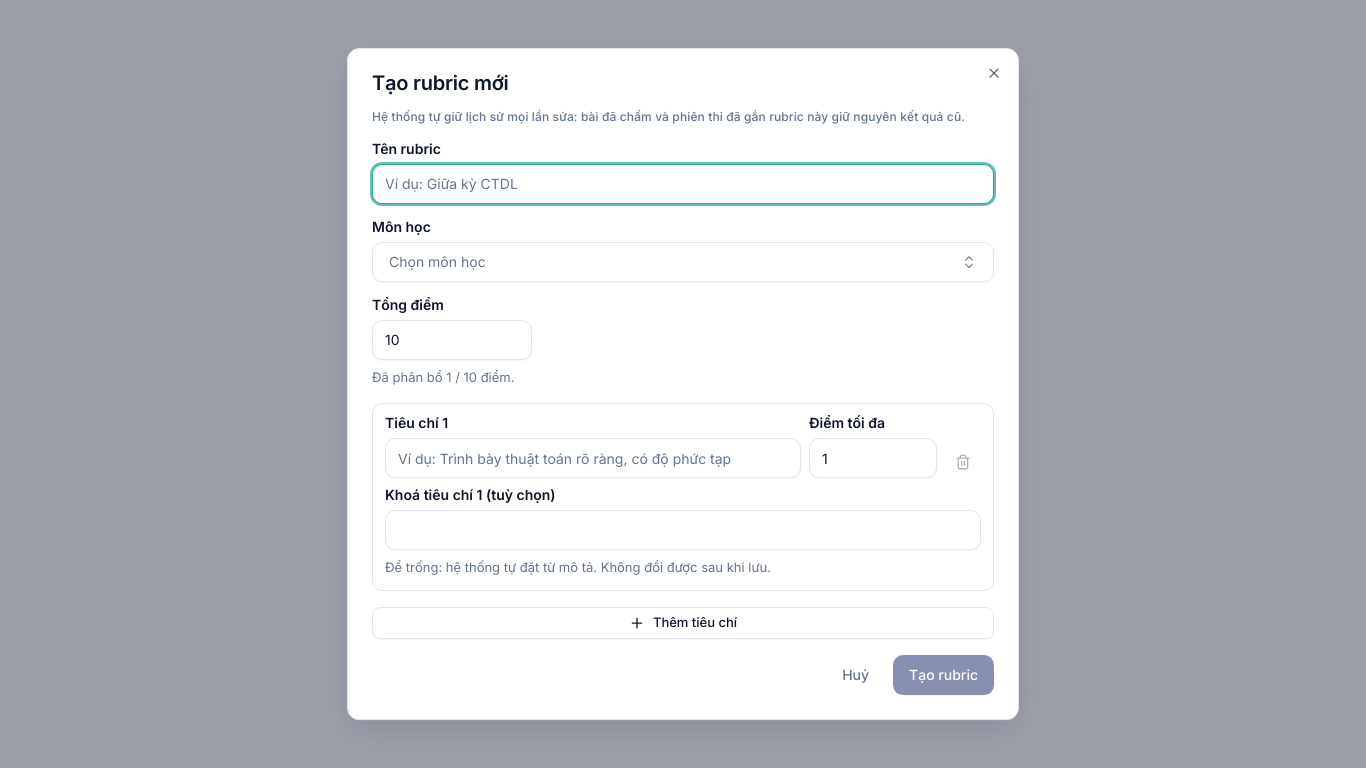
Test: RubricDialog — tạo rubric mới › chưa có rubric nào (tạo trống) › từ chối tên đã có: lưu cùng tên là âm thầm tạo bản kế tiếp và sinh lại mọi khoá
Step 1. Type "CTDL" into the field labelled "Tên rubric" → (683, 184), box [372,164,994,204]
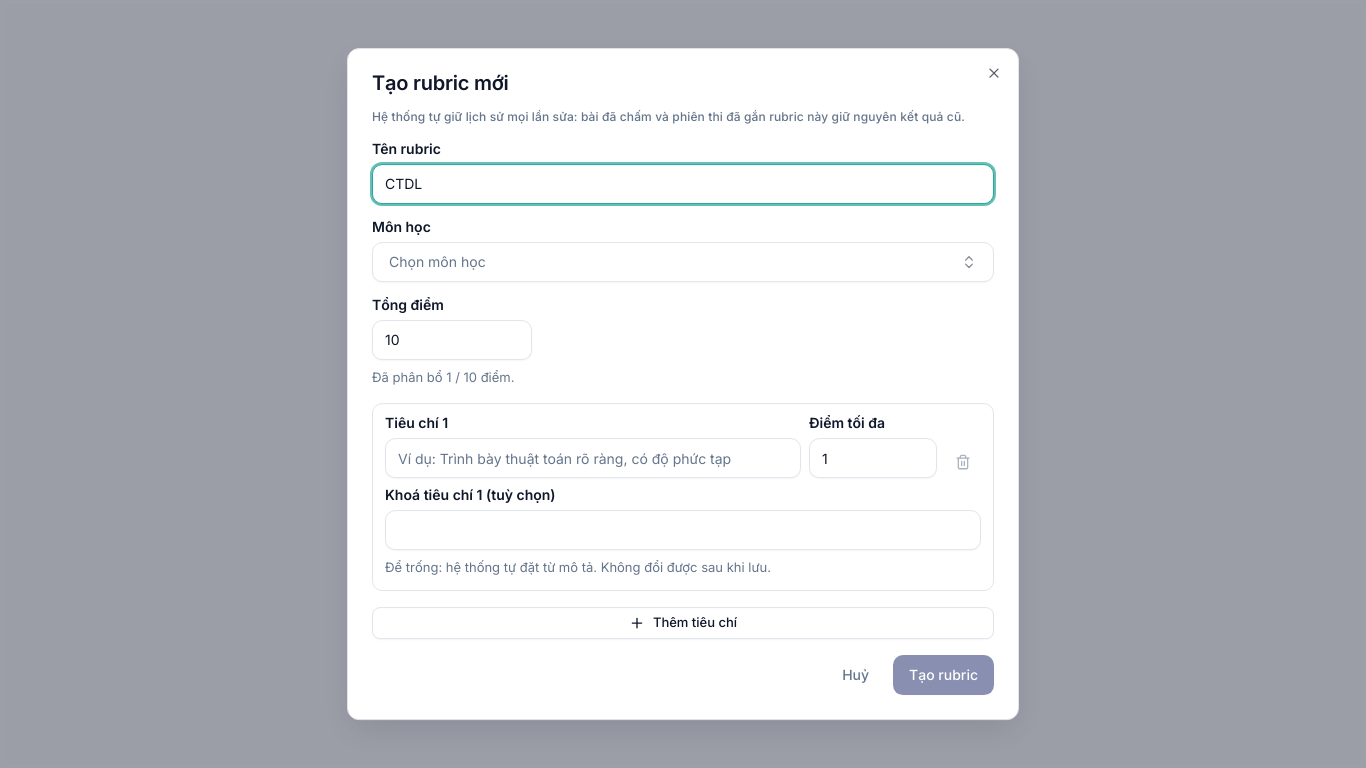
Step 2. Leave the field labelled "Tên rubric", box [372,164,994,204]
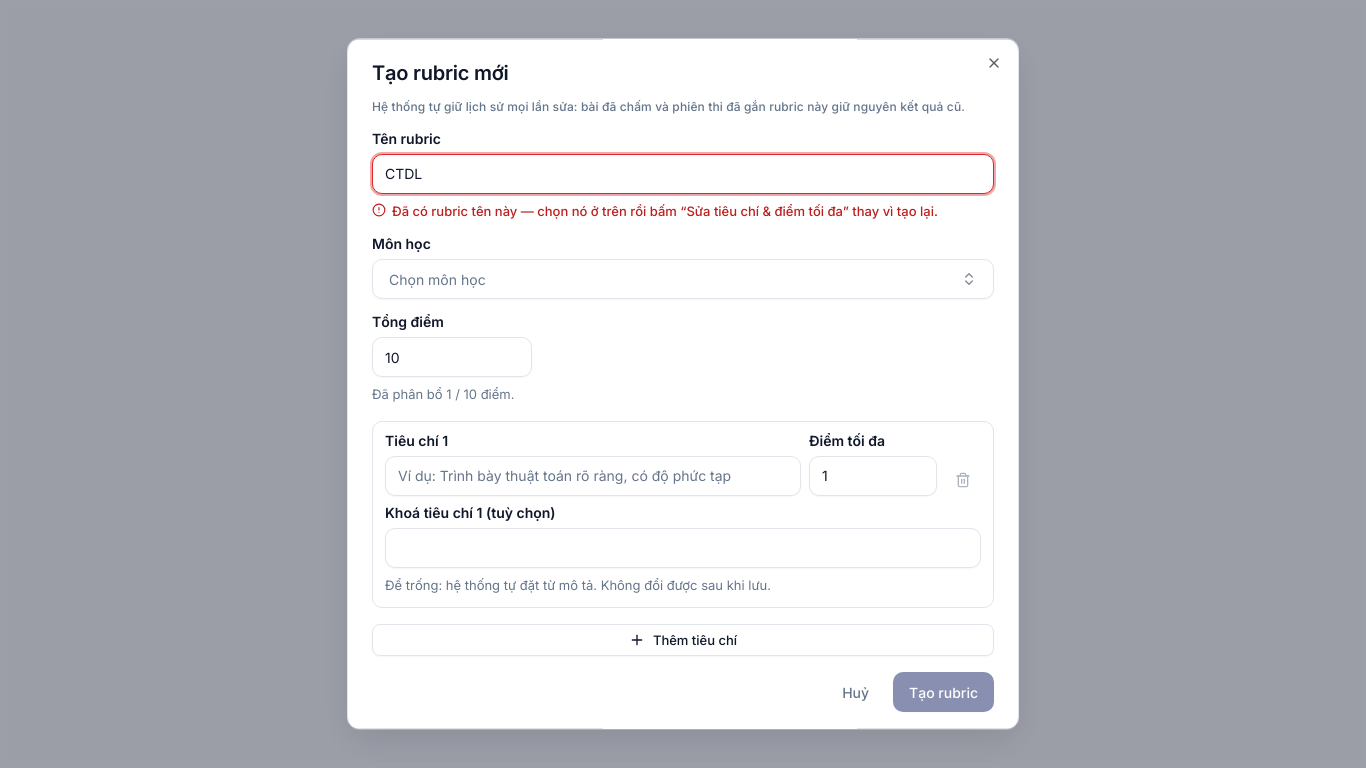
expect the button "Tạo rubric" is disabled: met, box [893,673,994,713]
expect the text "Đã có rubric tên này" is shown: met, box [392,203,938,219]
